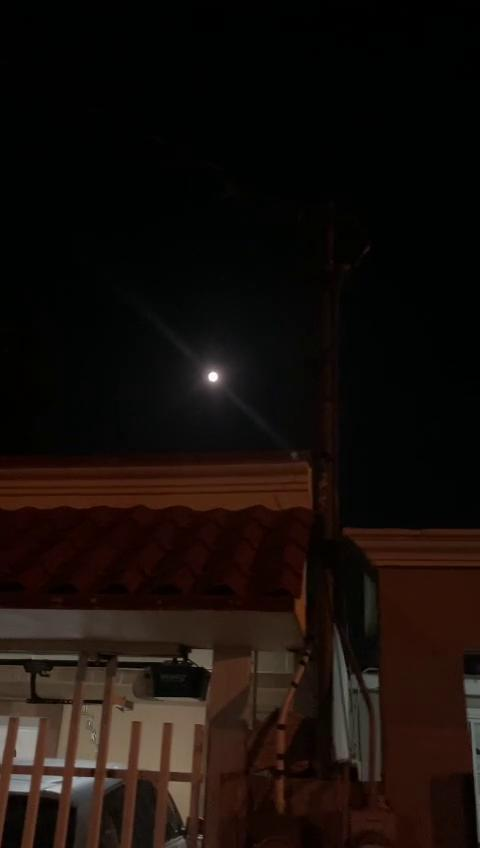moon: (205, 366, 224, 388)
